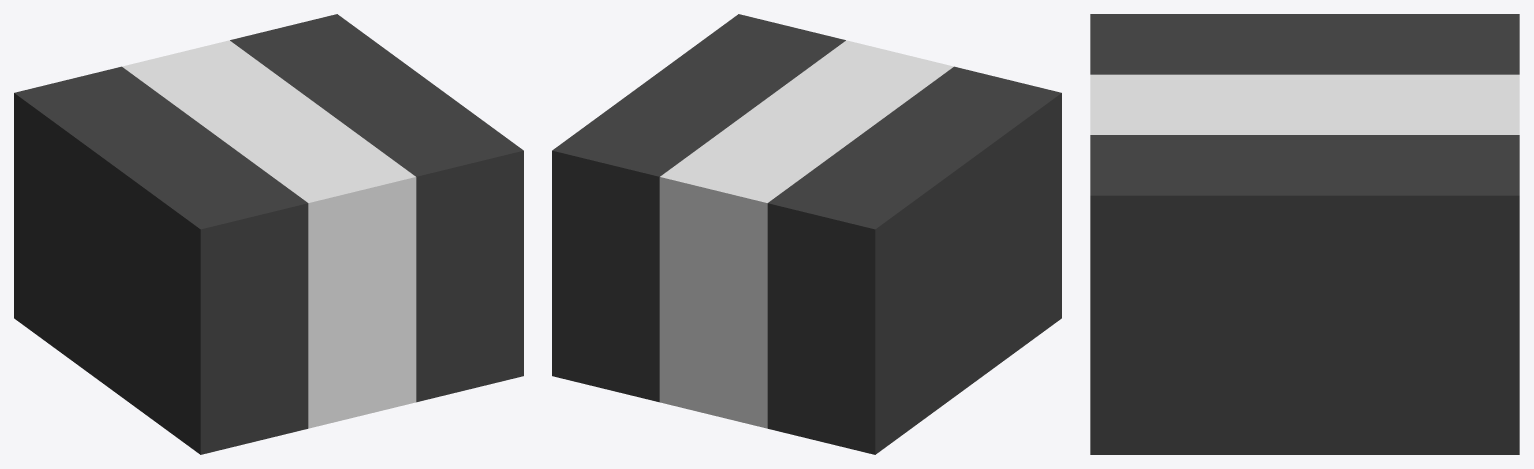
Rendered from btn.obj.
3 renders of one model, left to right at view 1: azimuth 30°, elevation 25°; view 2: azimuth 150°, elevation 25°; view 3: azimuth 270°, elevation 25°, orthographic. The views are drawn at different scales.
Parts seen in each view (by area): view 1: btn; view 2: btn; view 3: btn.
Boxes of the visible parts, left/top/right/bottom form: btn: left=14, top=14, right=523, bottom=454; btn: left=552, top=14, right=1061, bottom=454; btn: left=1090, top=14, right=1519, bottom=454.
Bounding box in the file's own units: 3 × 2 × 3.
Materials: 1 (1 with a texture image).
